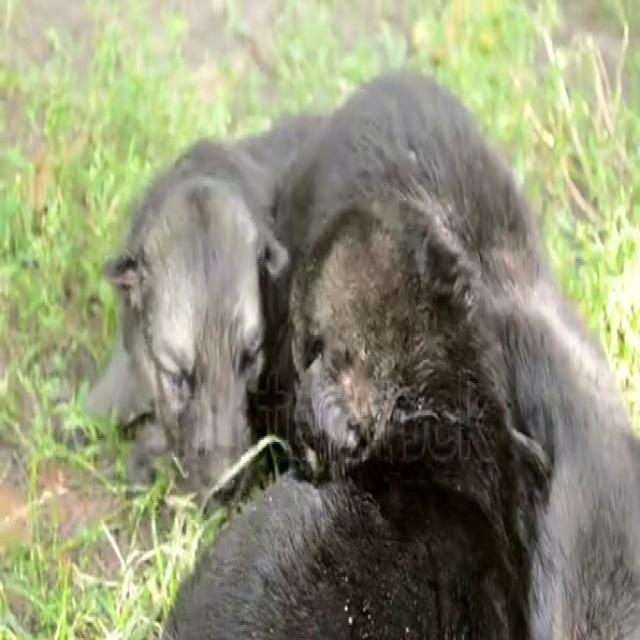normal_animals: (81, 65, 636, 636)
